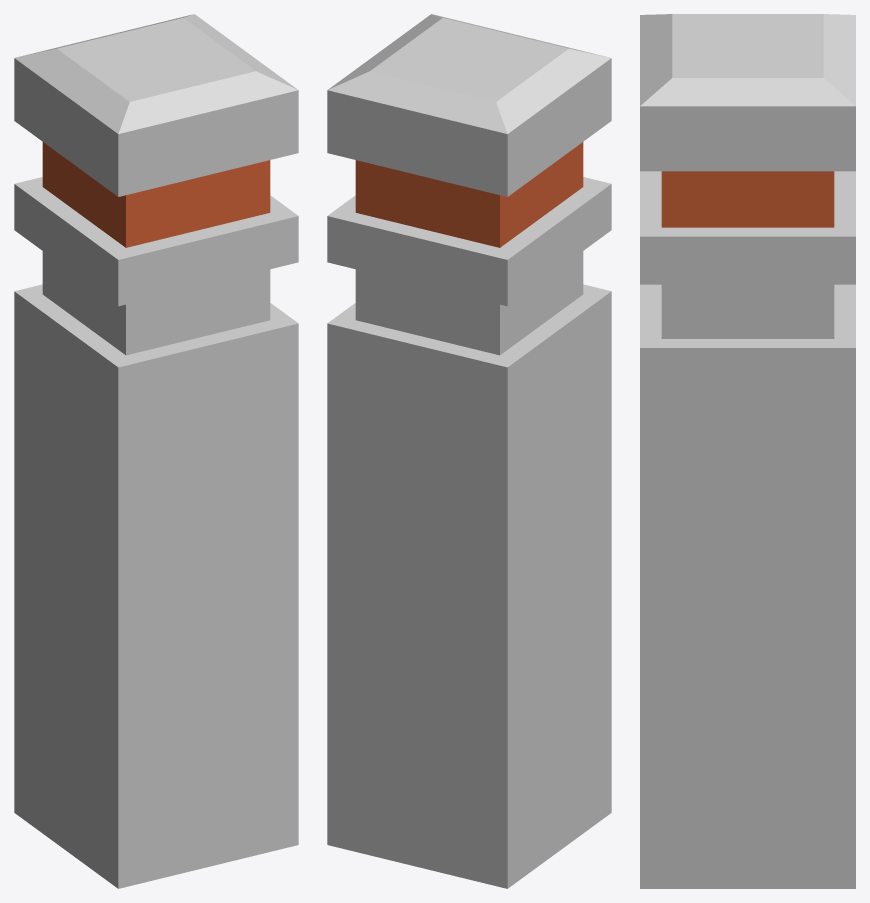
Rendered from pillars.glb.
3 renders of one model, left to right at view 1: azimuth 30°, elevation 25°; view 2: azimuth 150°, elevation 25°; view 3: azimuth 270°, elevation 25°, orthographic. The views are drawn at different scales.
Visible parts, largest first — view 1: Cube; view 2: Cube; view 3: Cube.
Boxes of the visible parts, x1,y1,x2,y2 form: Cube: (14, 14, 298, 888); Cube: (327, 14, 611, 888); Cube: (640, 14, 855, 888).
Bounding box in the file's own units: 2 × 8.15 × 2.
